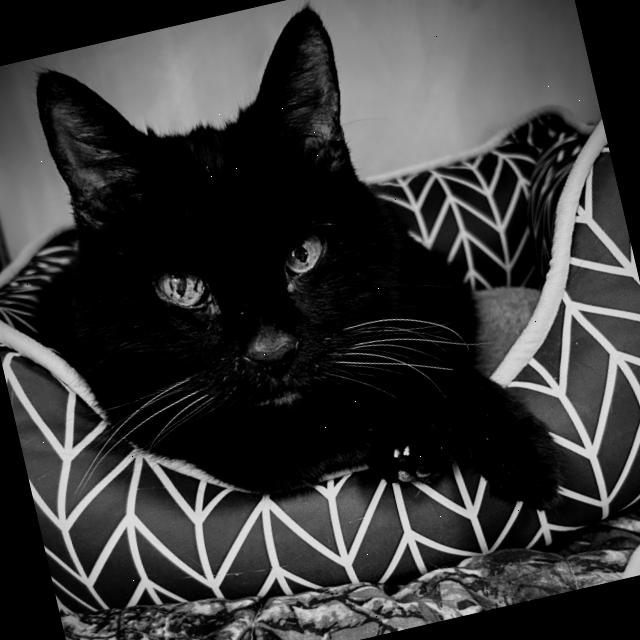manx_cat: (0, 0, 465, 497)
